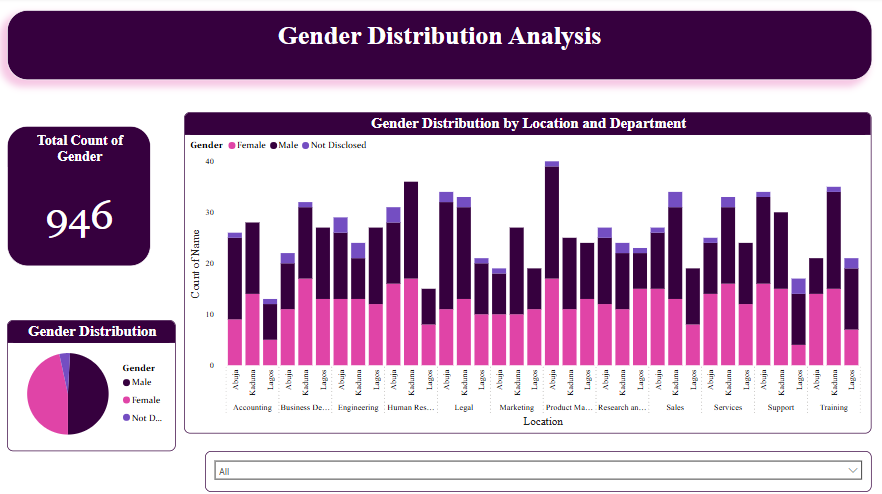

What the dashboard file says about the page in this screenshot:
{"tool":"powerbi","page":{"name":"Page 1","canvas":[1280,720],"ordinal":0},"visuals":[{"type":"card","title":"Total Count of Gender","fields":{"Values":["Palmoria Group emp-data.Gender"]},"box":[11.5,165.6,207.4,201.6],"z":0},{"type":"pieChart","title":"Gender Distribution","fields":{"Category":["Palmoria Group emp-data.Gender"],"Y":["Palmoria Group emp-data.Name"]},"box":[11.5,440.6,243.4,188.6],"z":1000},{"type":"columnChart","title":"Gender Distribution by Location and Department","fields":{"Series":["Palmoria Group emp-data.Gender"],"Y":["Palmoria Group emp-data.Name"],"Category":["Palmoria Group emp-data.Department","Palmoria Group emp-data.Location"]},"box":[266.4,166.3,990.4,463],"z":2000},{"type":"textbox","title":"1. What is the gender distribution in the organization? Distil to regions and\ndepartments","box":[11.5,18.7,1245.6,100.8],"z":3000},{"type":"slicer","fields":{"Values":["Palmoria Group emp-data.Department"]},"box":[10.7,643.6,180.6,59],"z":4000},{"type":"slicer","fields":{"Values":["Palmoria Group emp-data.Location"]},"box":[554.2,647.2,702.6,66.1],"z":4001},{"type":"slicer","fields":{"Values":["Palmoria Group emp-data.Gender"]},"box":[205.6,647.2,321.8,66.1],"z":4002}]}

Visuals, with their boxes in screenshot pixels (x1, y1, x2, y2), scaled from the page's 1280x720 canvas onto the 882x494 screenshot:
"Total Count of Gender" card: [x1=8, y1=114, x2=151, y2=252]
"Gender Distribution" pieChart: [x1=8, y1=302, x2=176, y2=432]
"Gender Distribution by Location and Department" columnChart: [x1=184, y1=114, x2=866, y2=432]
"1. What is the gender distribution in the organization? Distil to regions and
departments" textbox: [x1=8, y1=13, x2=866, y2=82]
slicer - Palmoria Group emp-data.Department: [x1=7, y1=442, x2=132, y2=482]
slicer - Palmoria Group emp-data.Location: [x1=382, y1=444, x2=866, y2=489]
slicer - Palmoria Group emp-data.Gender: [x1=142, y1=444, x2=363, y2=489]
